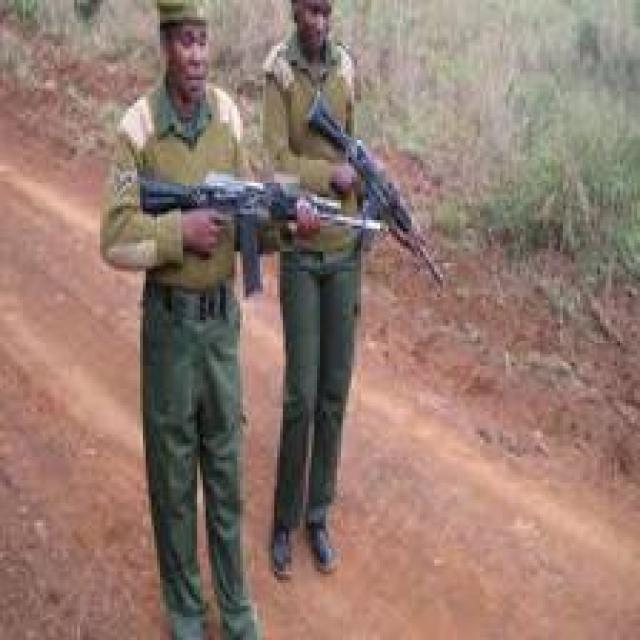Rifle: (306, 100, 443, 277), (127, 154, 324, 263)
